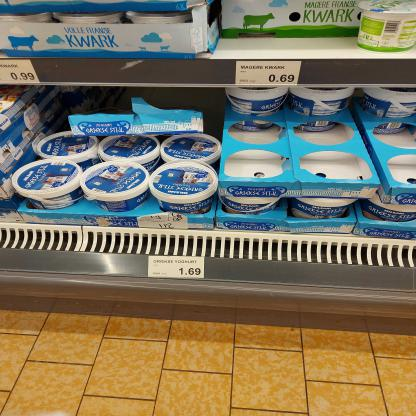prtg: (236, 62, 303, 87), (149, 257, 205, 279), (1, 60, 42, 85)
